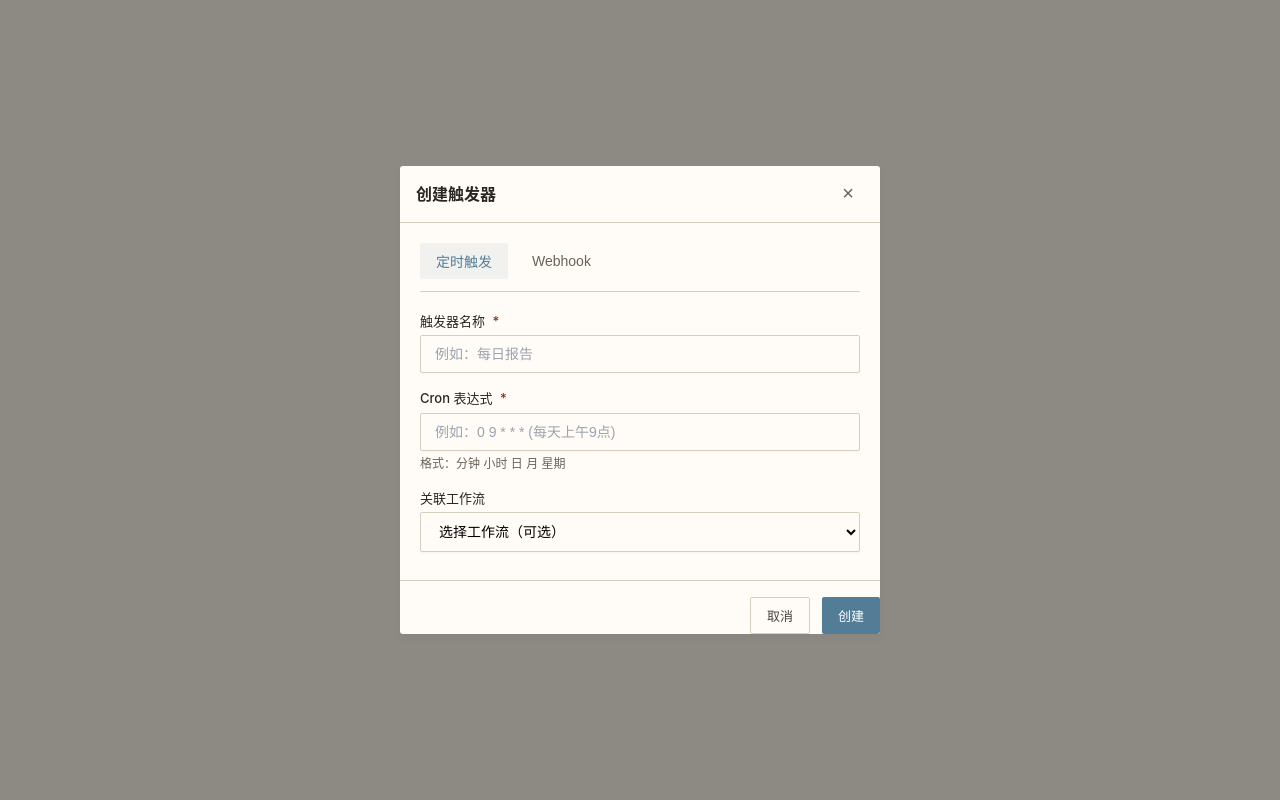
Test: TriggerCreateDialog › shows validation error when cron expression is empty
Type "Test Trigger" into the field with test id "schedule-name-input" at (640, 354), box [420,335,860,373]
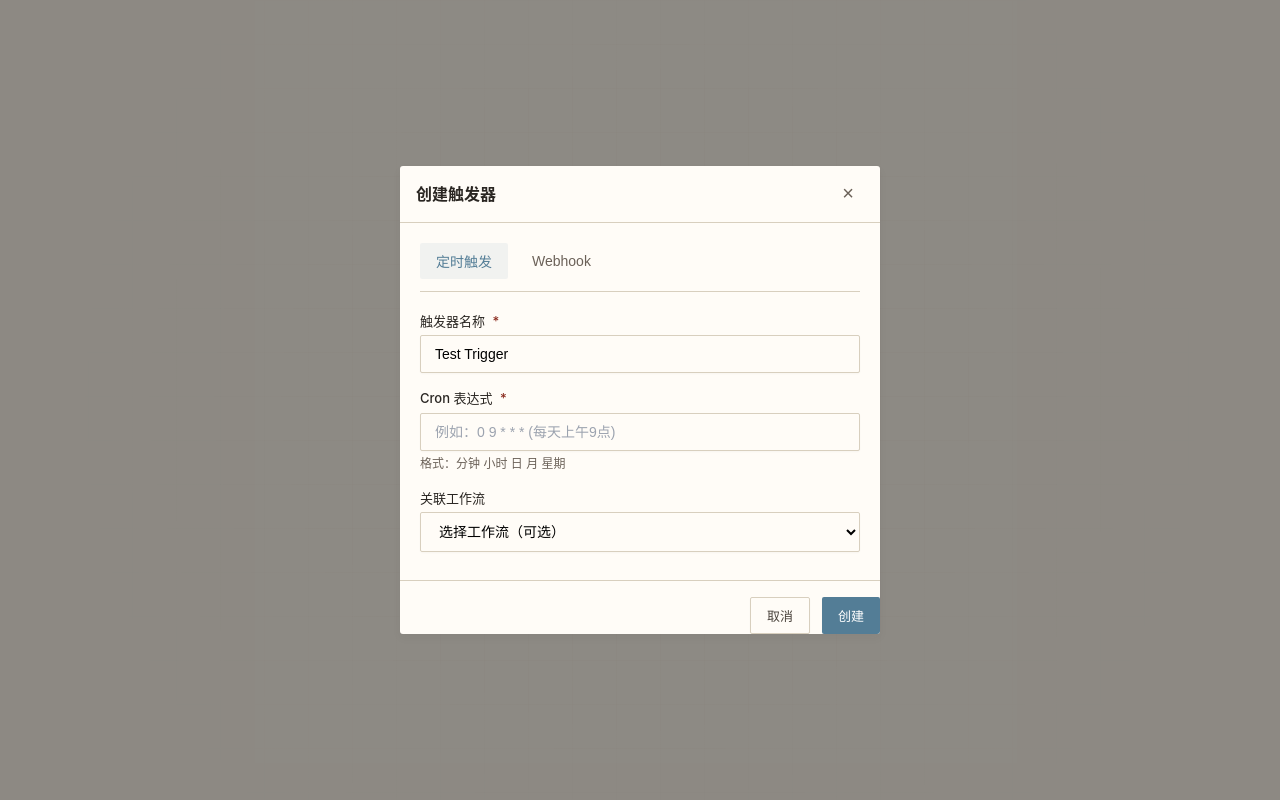
Click the button with test id "trigger-create-submit" at (851, 616), box [822,597,880,634]
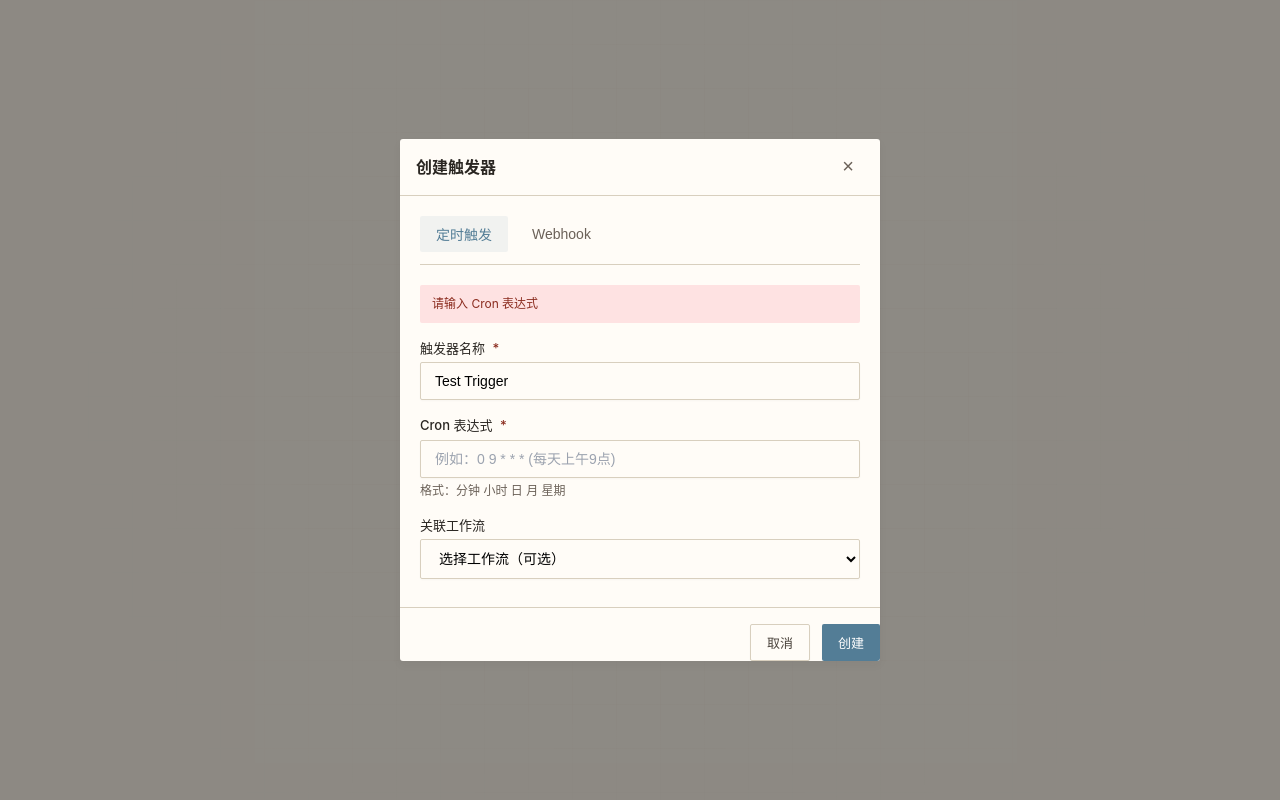
Check: the text "请输入 Cron 表达式" is shown, box [432,296,538,311]
